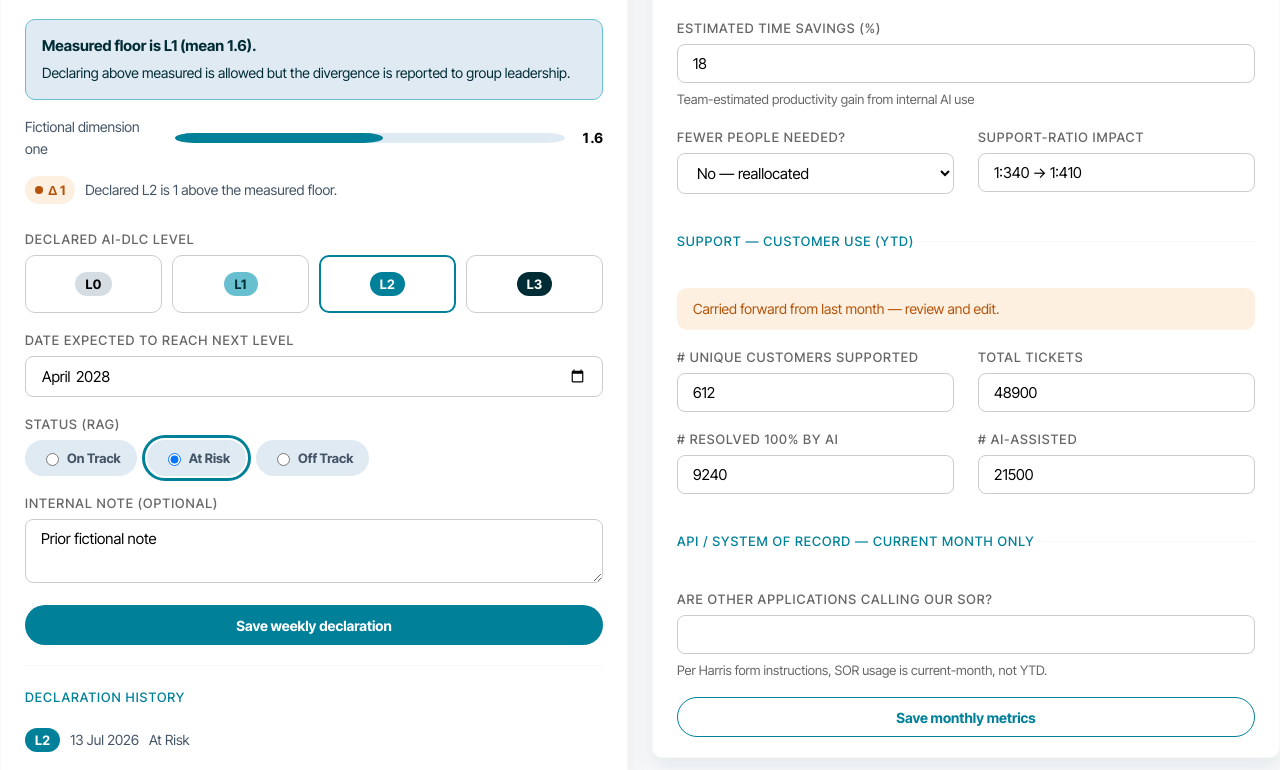
Scenario: BuFormsScreen (HAP-15; FR-047/FR-048; bu-forms mockup) › shows a 403-specific inline error when the caller is not the BU Lead/delegate
The image size is (1280, 770).
(page scrolled)
Click the button "Save weekly declaration". click: [314, 625]
box: [25,605,603,645]
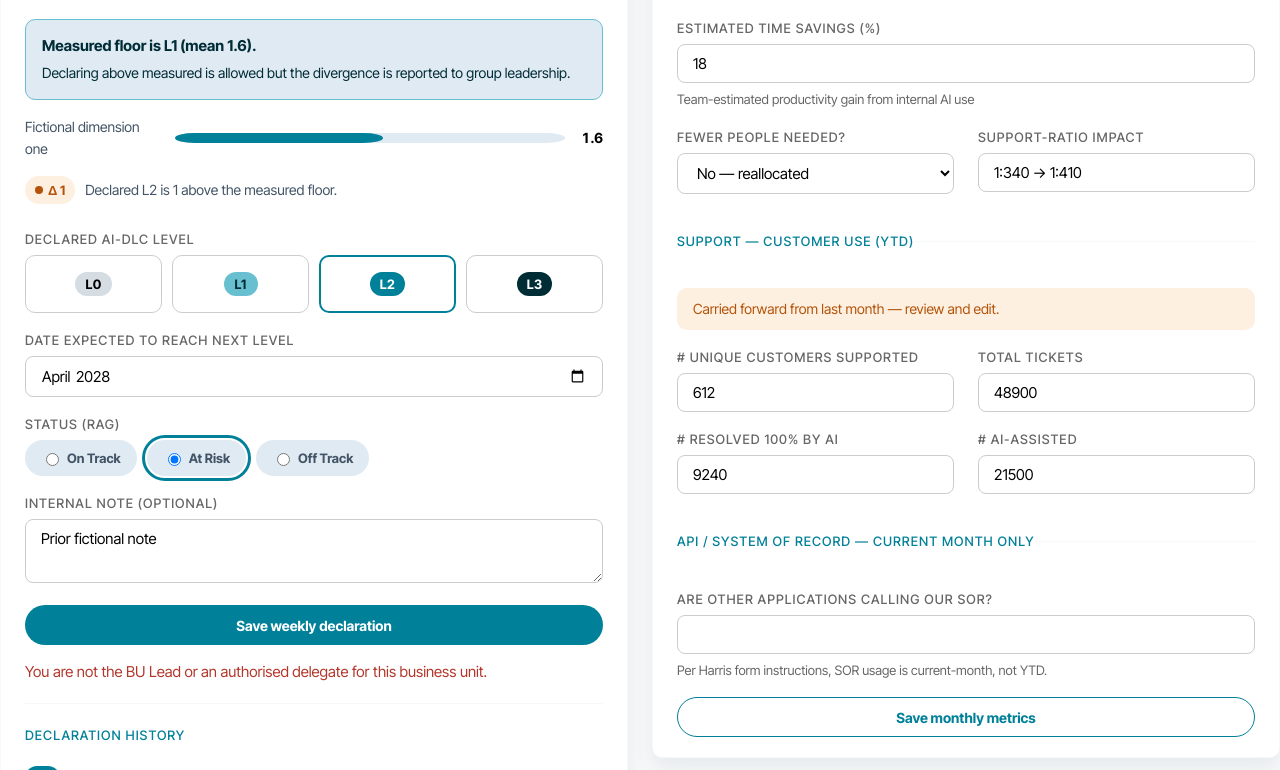
Result: the text "You are not the BU Lead or an authorised delegate for this business unit." is shown at [25,662,487,681]
